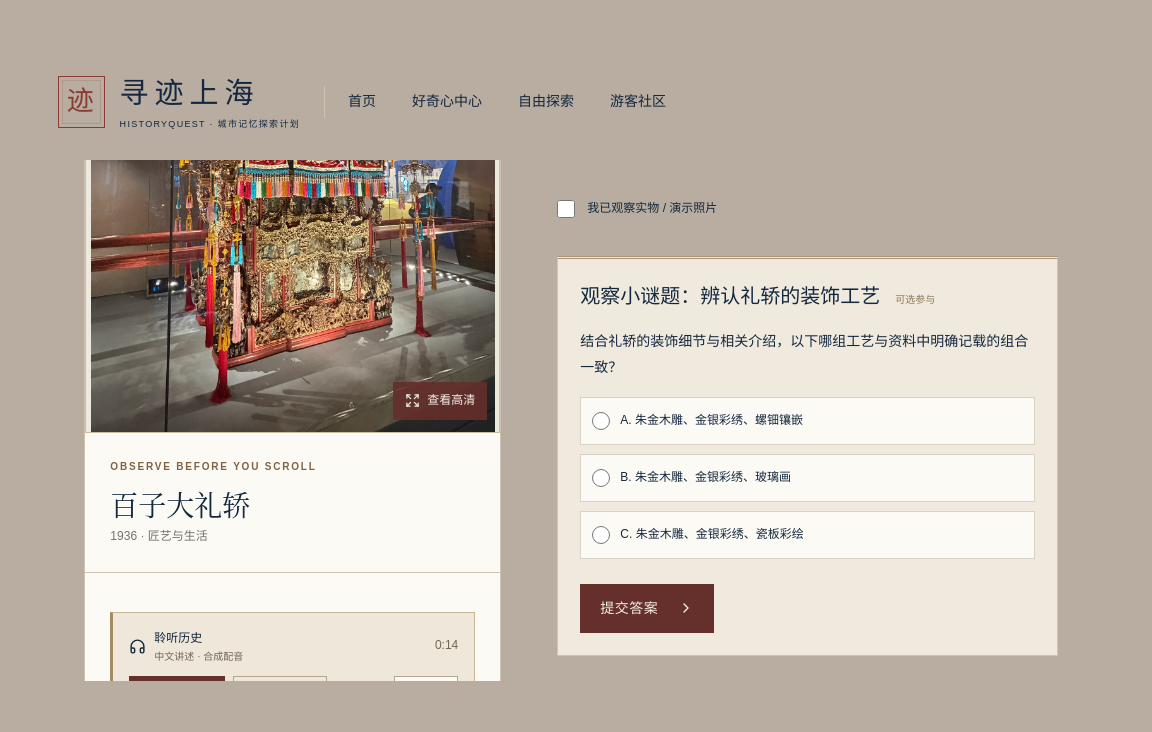
offers explanation after wrong answer and permits retry
(page scrolled)
Click the button "A. 朱金木雕、金银彩绣、螺钿镶嵌": (712, 420) [580,397,1035,445]
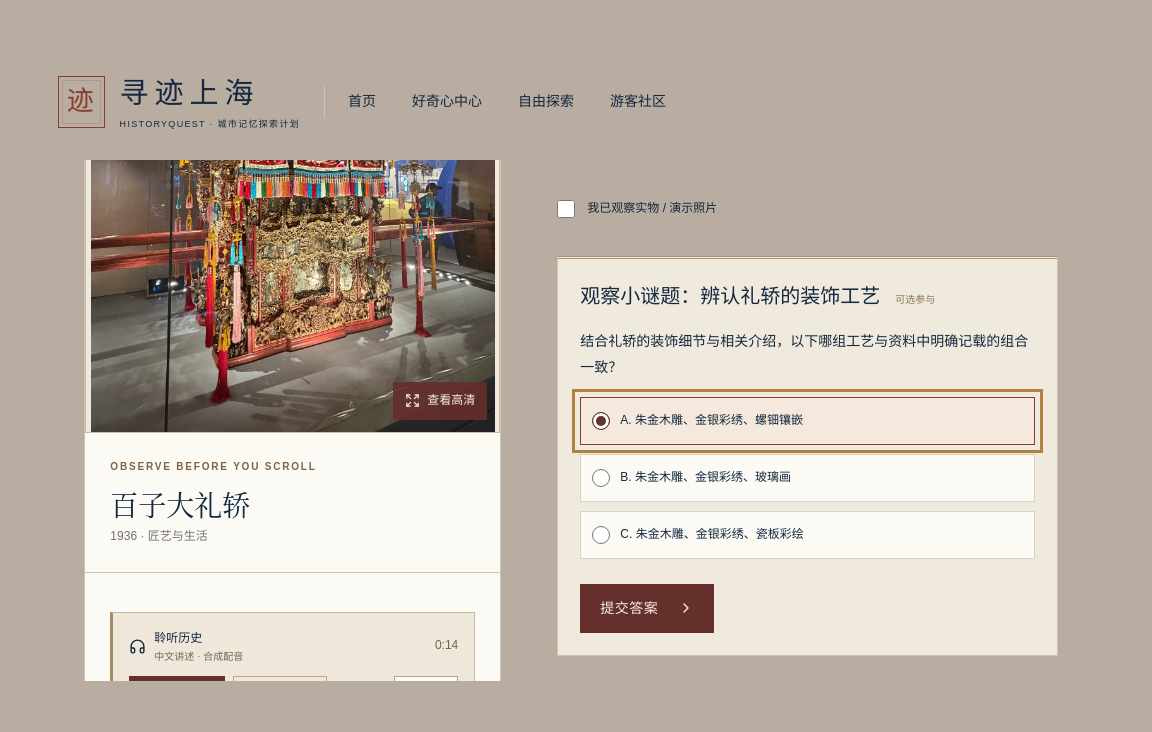
Click the button "提交答案": (647, 608) [580,584,714,633]
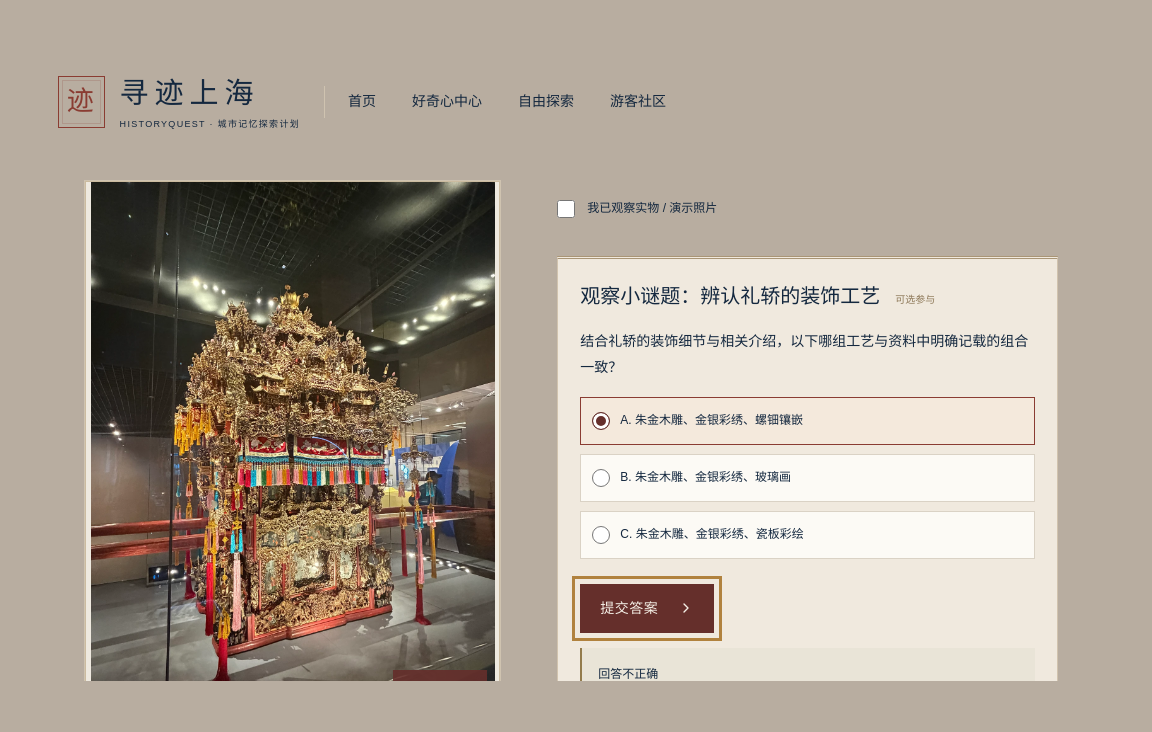
Expected: the text "回答不正确" is shown, [598,667,658,681]
Click the button "B. 朱金木雕、金银彩绣、玻璃画": (706, 477) [580,454,1035,502]
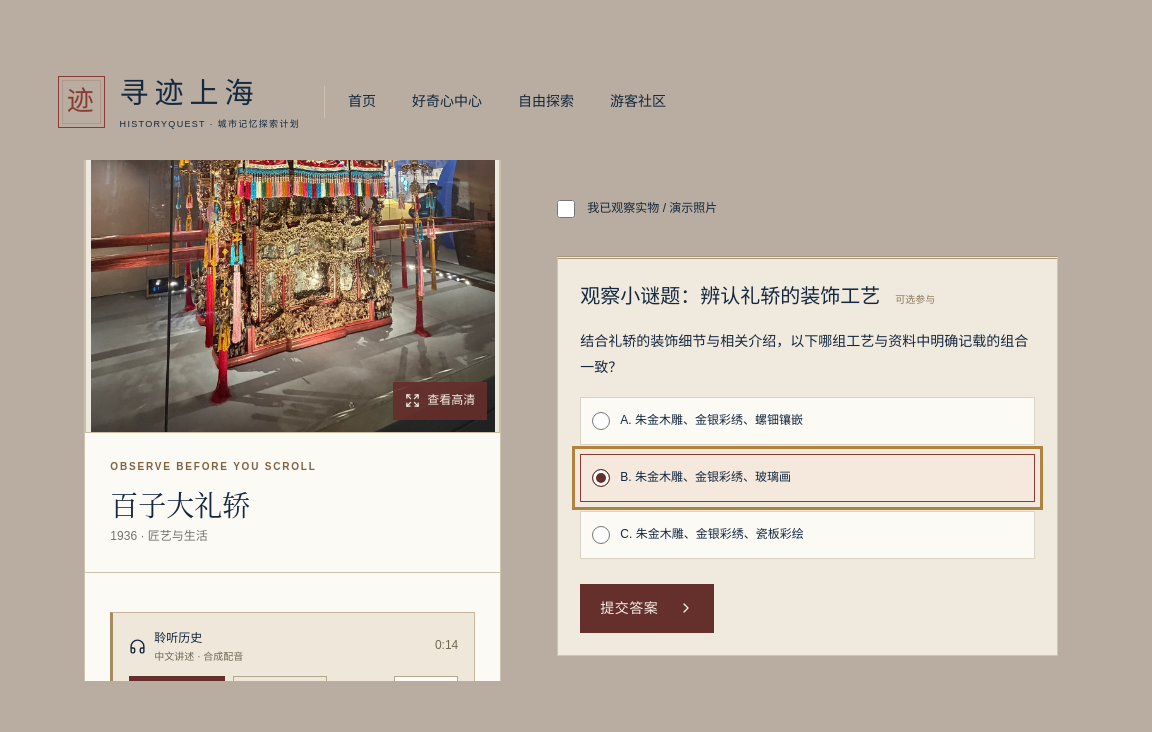
Click the button "提交答案": (647, 608) [580,584,714,633]
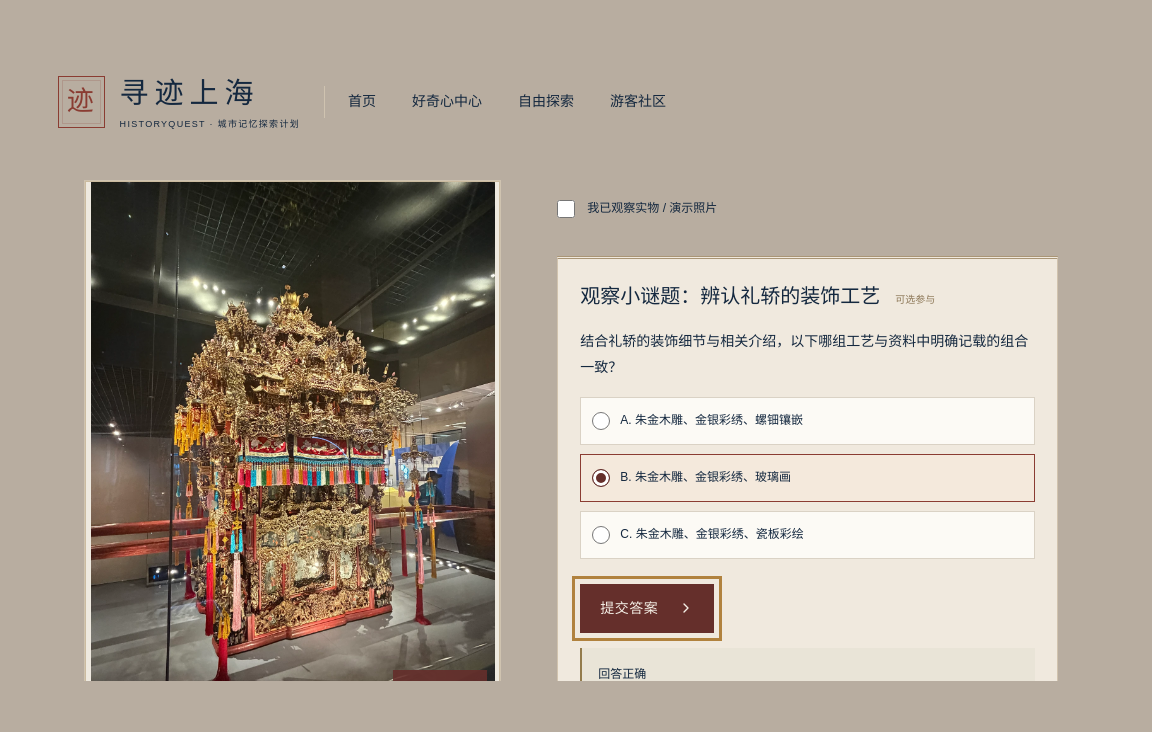
Expected: the text "回答正确" is shown, [598,667,646,681]
